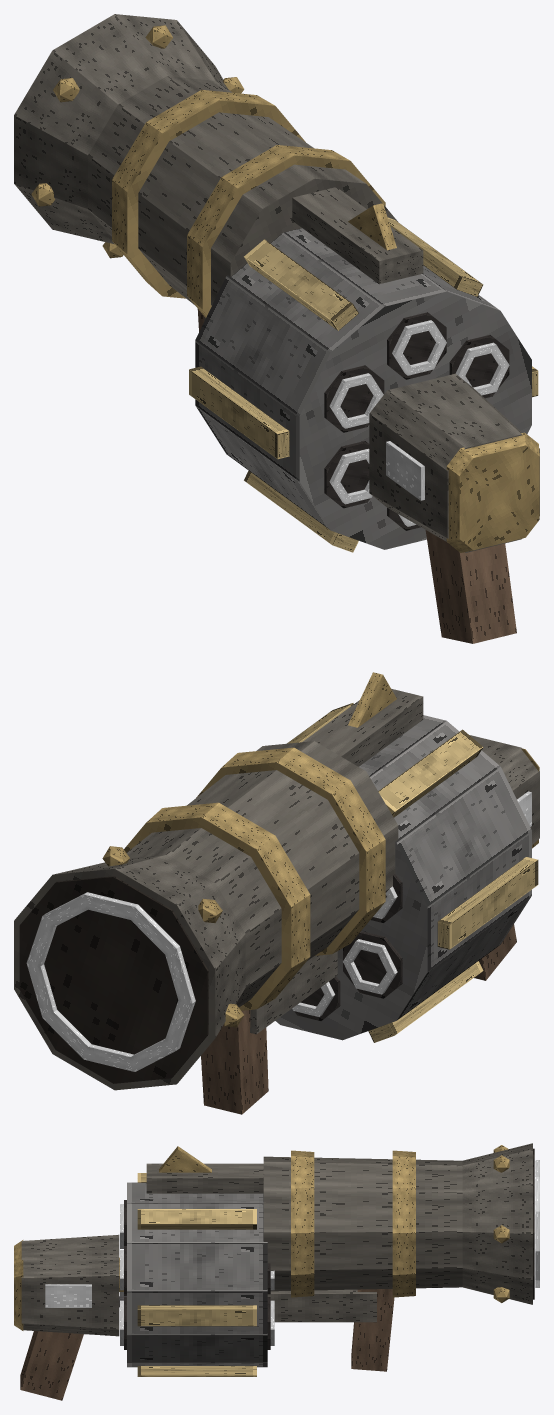
File: weapon_tumbler.gltf
3 renders of one model, top to bottom at view 1: azimuth 30°, elevation 25°; view 2: azimuth 150°, elevation 25°; view 3: azimuth 270°, elevation 25°, orthographic. The views are drawn at different scales.
Visible parts, largest first — view 1: body, drum, drum_glow, glow; view 2: body, drum, glow, drum_glow; view 3: body, drum, glow, drum_glow.
Boxes of the visible parts, <box> form: body: <box>14,14,539,643</box>; drum: <box>189,217,538,552</box>; drum_glow: <box>329,320,509,526</box>; glow: <box>386,441,424,500</box>; body: <box>14,672,539,1114</box>; drum: <box>275,703,538,1042</box>; glow: <box>26,791,531,1071</box>; drum_glow: <box>292,886,397,1016</box>; body: <box>14,1143,534,1400</box>; drum: <box>124,1173,270,1376</box>; glow: <box>45,1160,539,1307</box>; drum_glow: <box>120,1204,274,1345</box>.
Size of the model in its own units: 0.26 by 0.3477 by 0.674.
4 materials, 4 textured.
